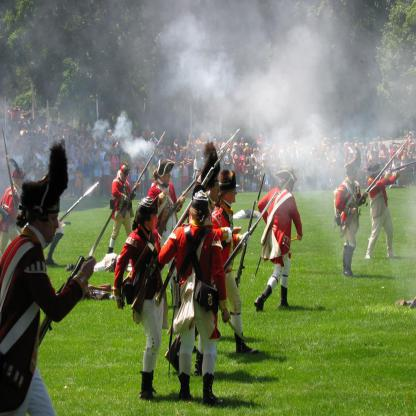face: (45, 209, 61, 243), (210, 181, 221, 202), (149, 213, 159, 231), (230, 186, 238, 203), (165, 169, 173, 184), (375, 170, 383, 181), (123, 169, 128, 181), (351, 173, 357, 182), (20, 179, 24, 189), (100, 146, 105, 152), (8, 110, 12, 116), (22, 117, 25, 124), (338, 143, 342, 148), (188, 146, 191, 152), (197, 153, 200, 159), (89, 145, 92, 151), (352, 143, 355, 149), (36, 157, 39, 163), (390, 146, 394, 150), (152, 134, 155, 139), (183, 149, 186, 154), (86, 160, 89, 165), (70, 160, 73, 165), (107, 156, 110, 161), (143, 133, 146, 138), (160, 155, 163, 160), (234, 152, 237, 157), (242, 140, 245, 145), (367, 141, 370, 146), (25, 117, 28, 121), (228, 151, 231, 155), (88, 153, 91, 157), (371, 151, 374, 155), (236, 158, 239, 162), (70, 131, 73, 135), (97, 152, 100, 156), (248, 150, 250, 155), (247, 160, 249, 165), (251, 149, 253, 154), (185, 161, 188, 164), (78, 169, 80, 173), (24, 127, 26, 131), (40, 127, 42, 131), (243, 160, 245, 164), (235, 145, 237, 149), (410, 134, 412, 138), (412, 145, 414, 149), (75, 130, 77, 134), (170, 154, 172, 157), (193, 136, 195, 139)
